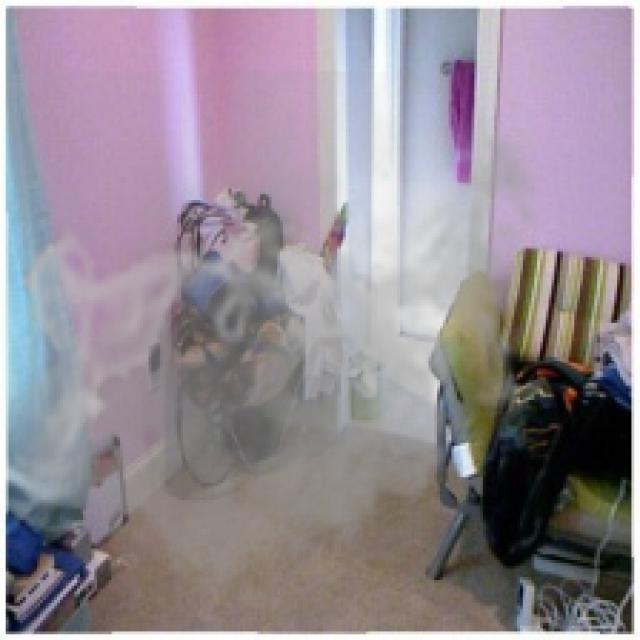Smoke: (9, 71, 558, 620)
